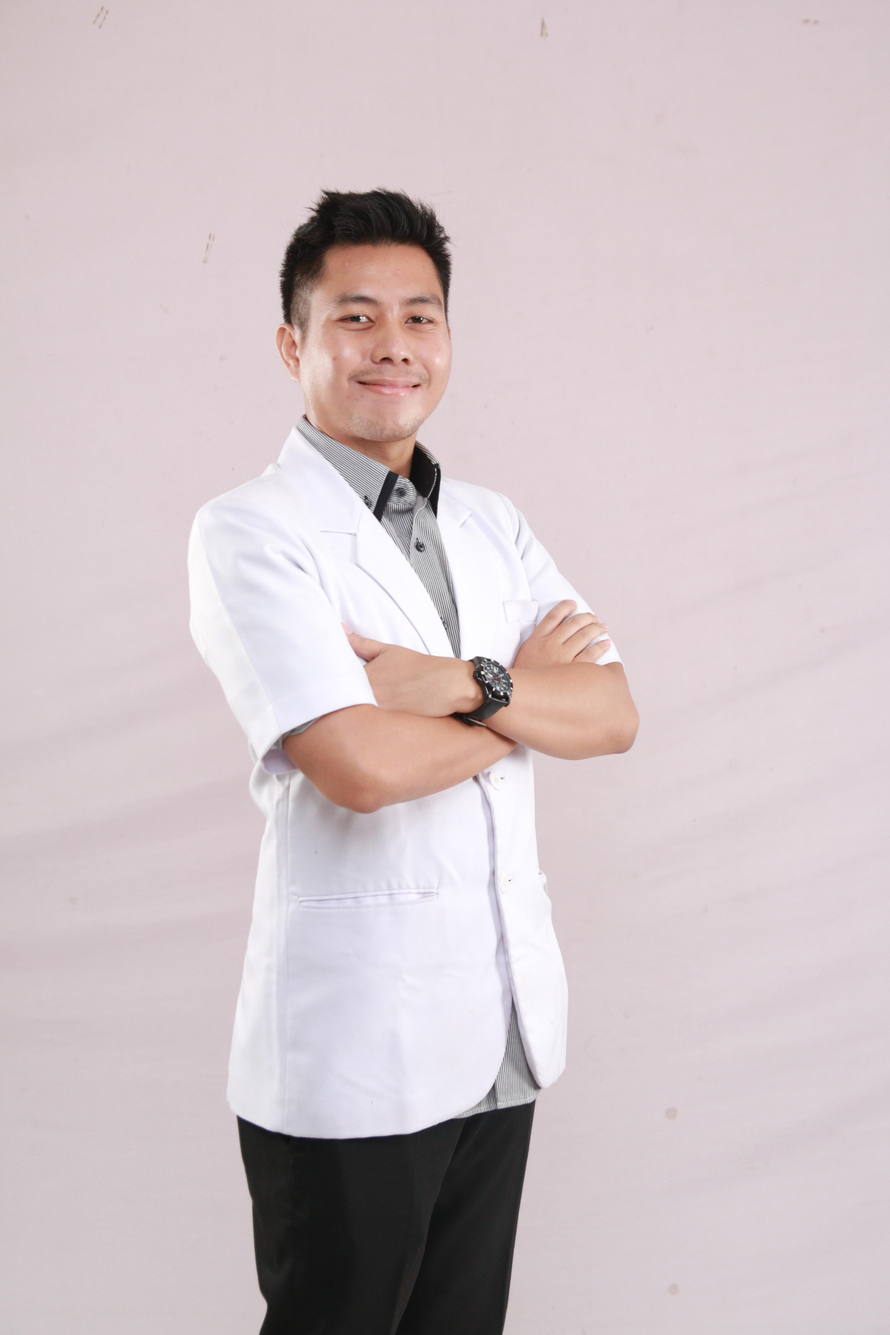Lab_coat: (124, 437, 595, 1122)
